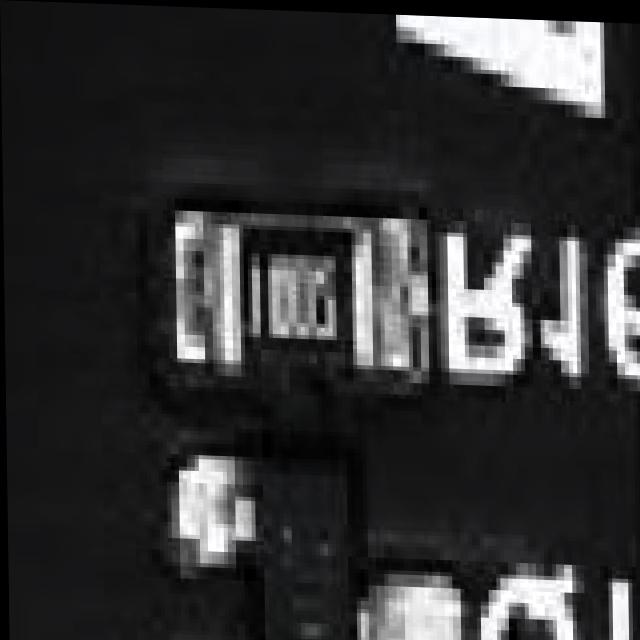resistor: (210, 190, 394, 371)
transistor: (209, 462, 395, 640)
